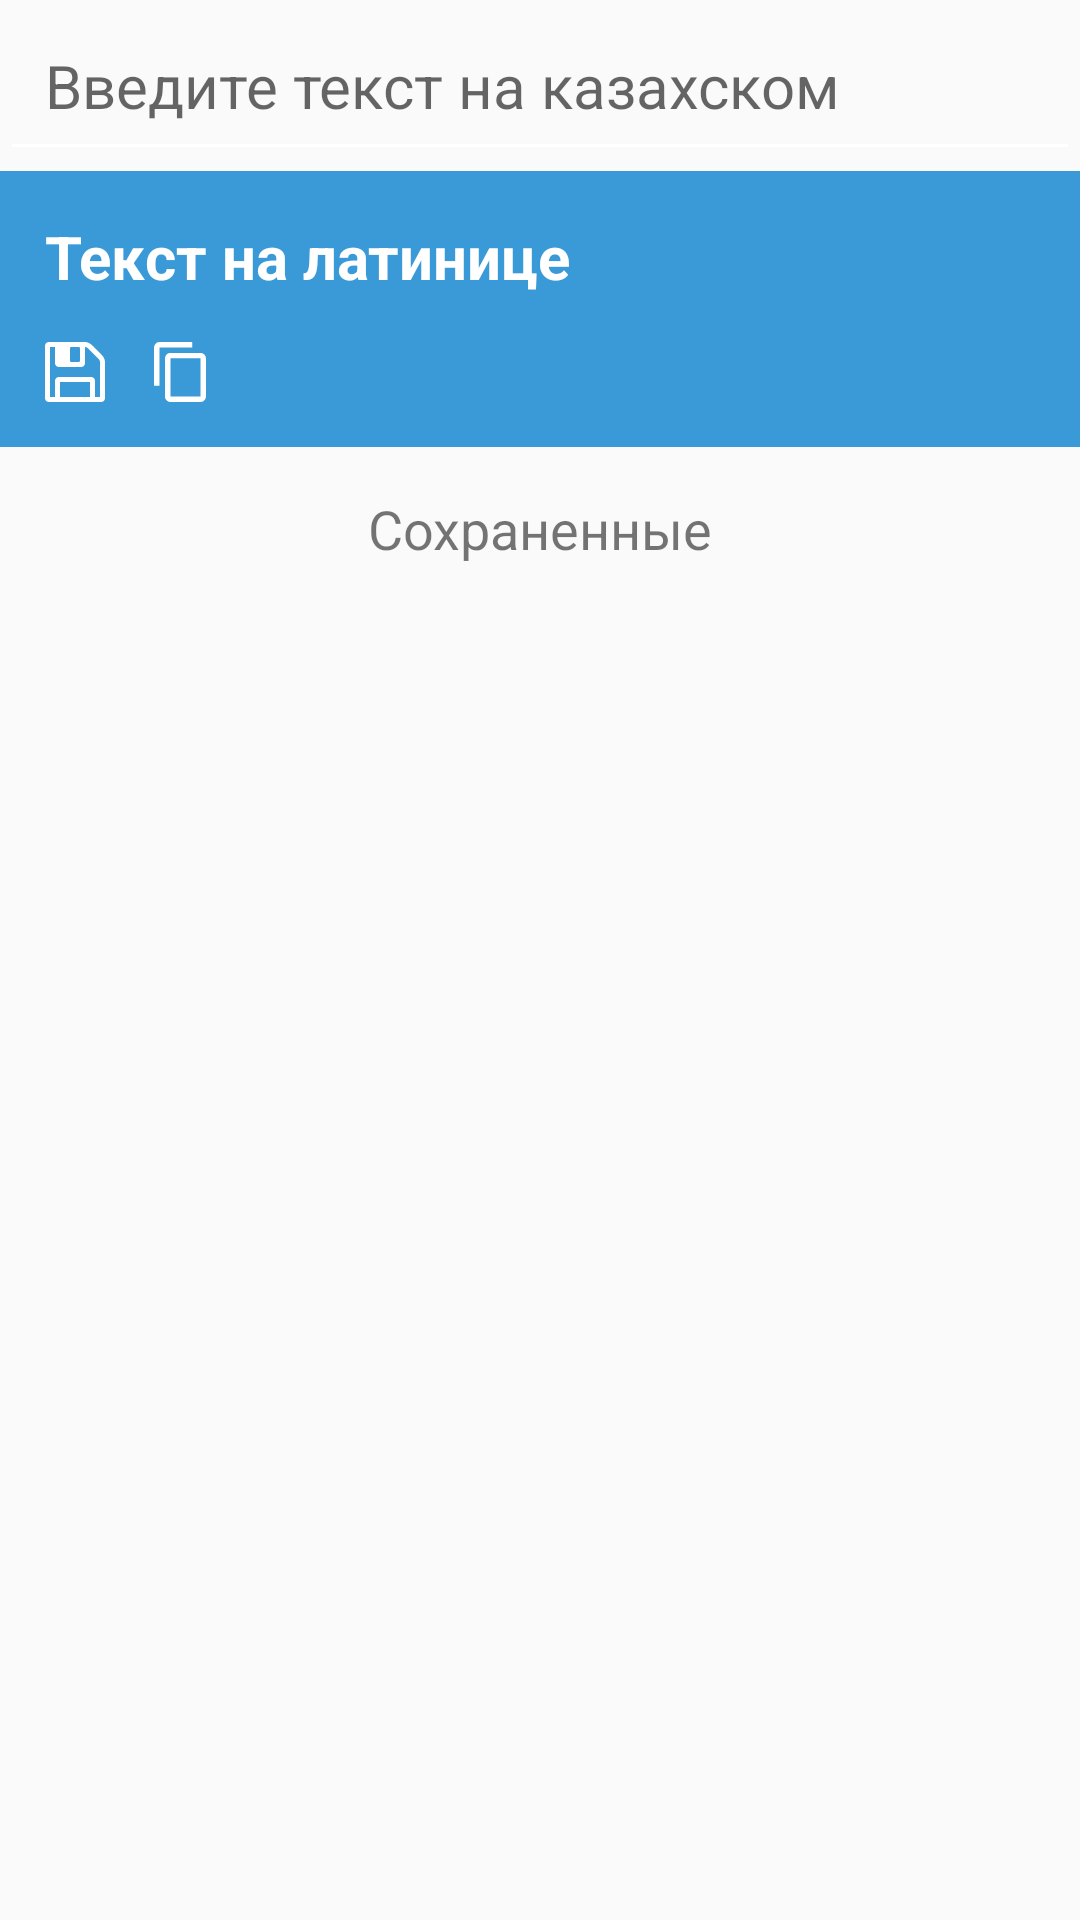

Icon bounding boxes for this 1080 x 1920 phone screenshot, format (x1, y1, x2, y2):
save: (45, 342, 105, 402)
